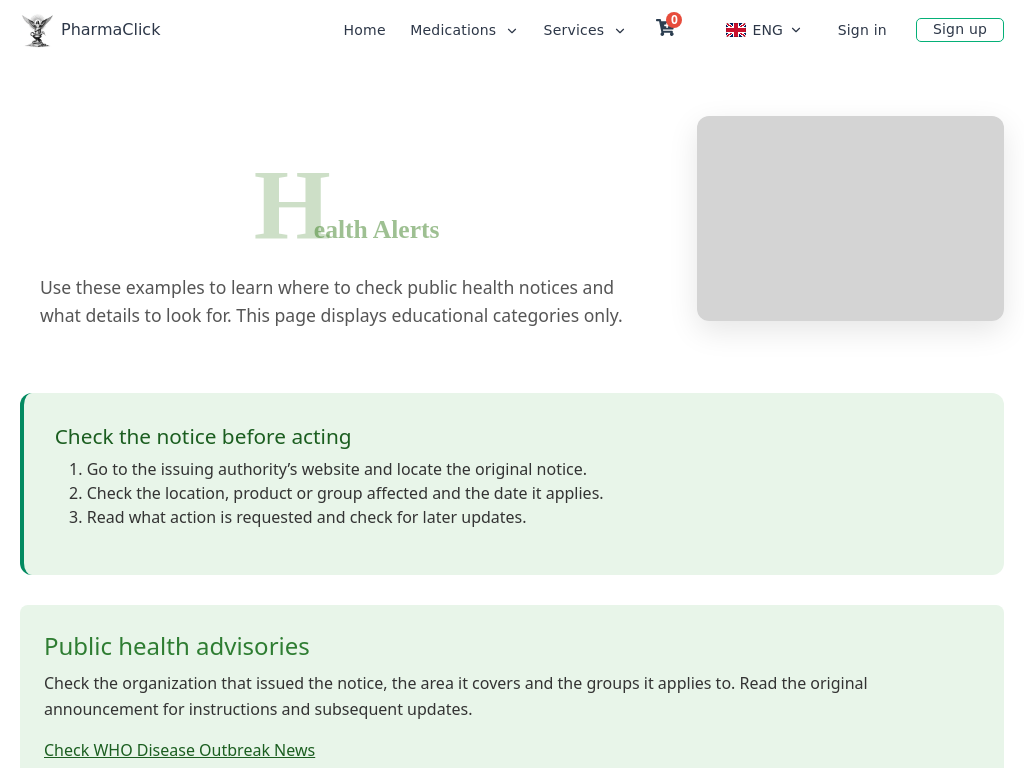
it: localizes the body copy on /Health_Alerts in all three languages
Expected: the text "Check the organization that issued the notice, the area it covers and the groups it applies to. Read the original announ" is shown, [44,672,868,720]
Click the button "ENG".
click(765, 30)  # box [721,12,809,48]
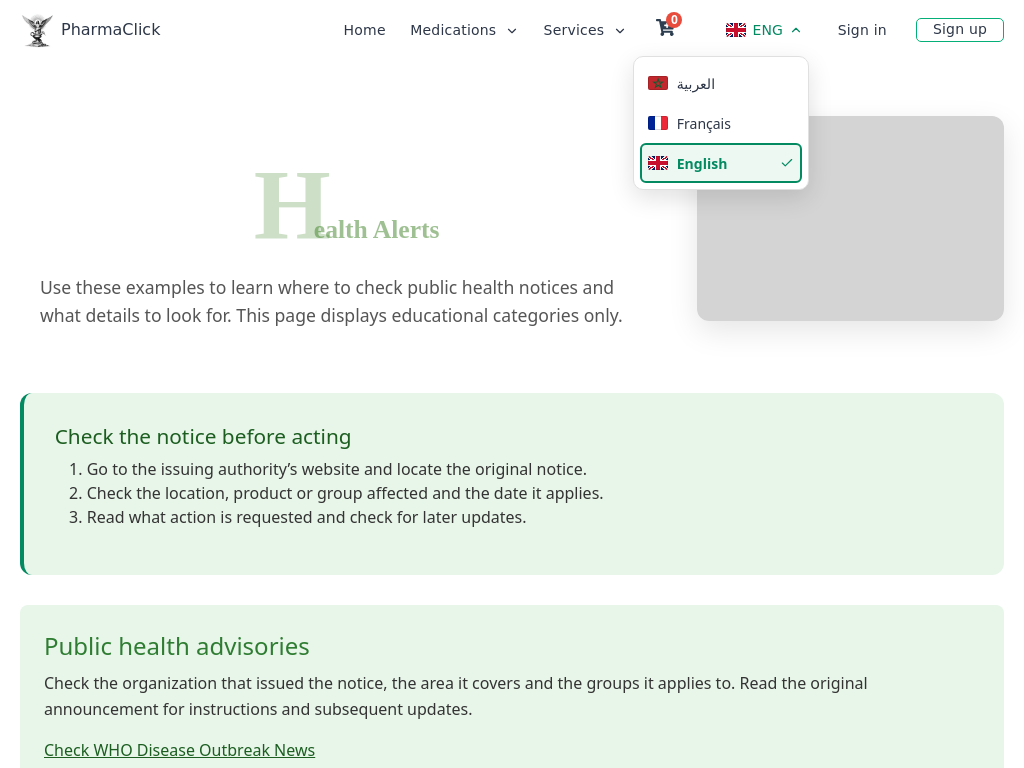
Click the menu item "Français".
click(721, 123)  # box [640,103,802,143]
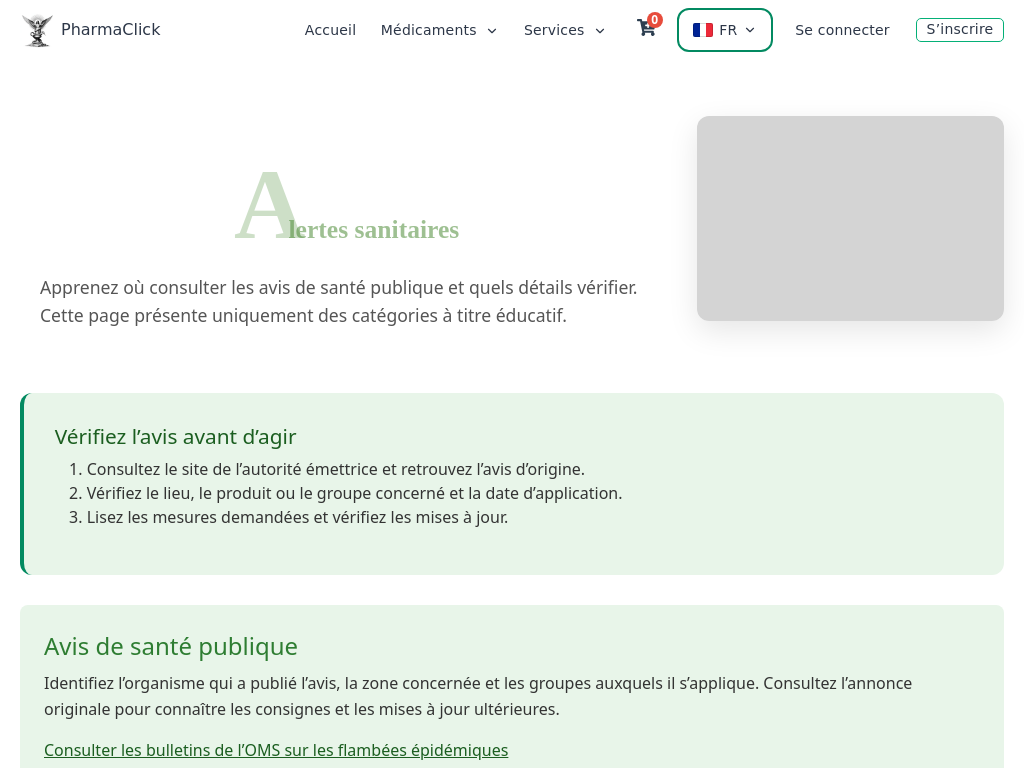
Expected: the text "Identifiez l’organisme qui a publié l’avis, la zone concernée et les groupes auxquels il s’applique. Consultez l’annonce" is shown, [44,672,912,720]
Click the button "FR".
click(725, 30)  # box [681,12,769,48]
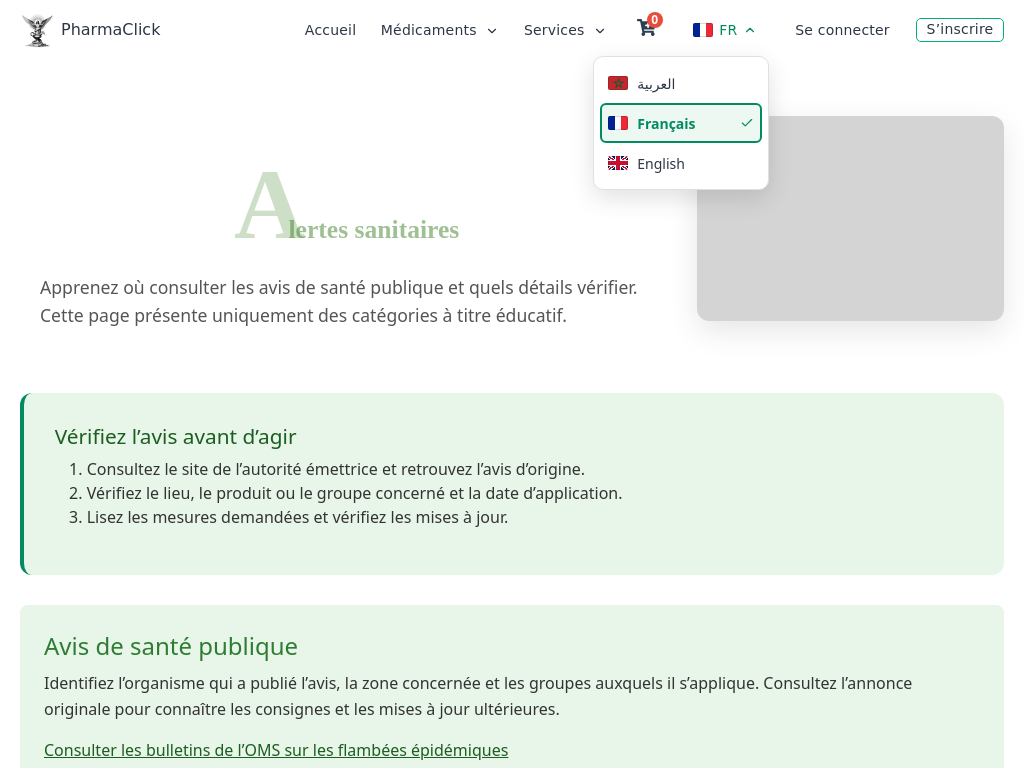
Click the menu item "العربية".
click(681, 83)  # box [600,63,762,103]
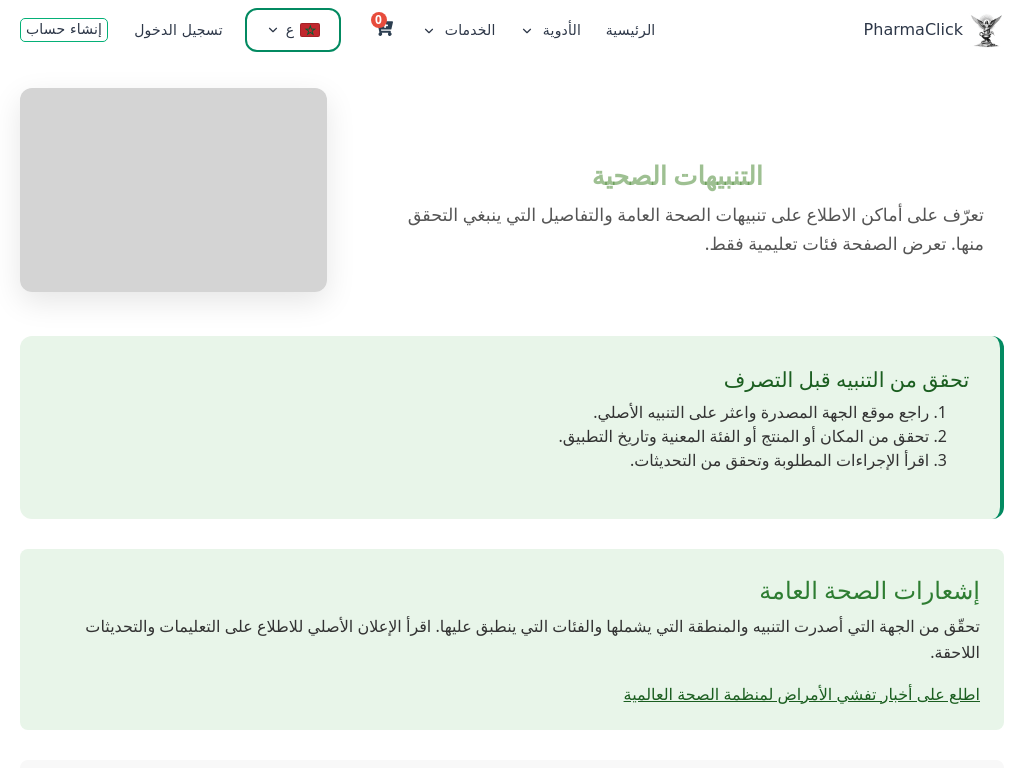
Expected: the text "تحقّق من الجهة التي أصدرت التنبيه والمنطقة التي يشملها والفئات التي ينطبق عليها. اقرأ الإعلان الأصلي للاطلاع على التعليم" is shown, [85,615,980,663]
